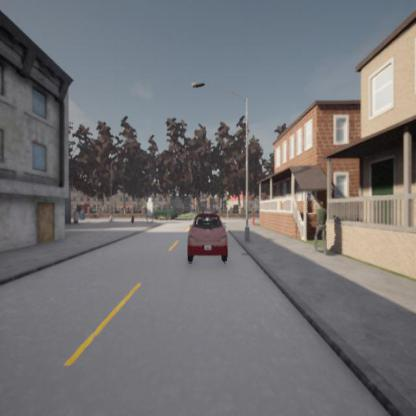person: (312, 201, 330, 256)
vehicle: (186, 212, 227, 264)
